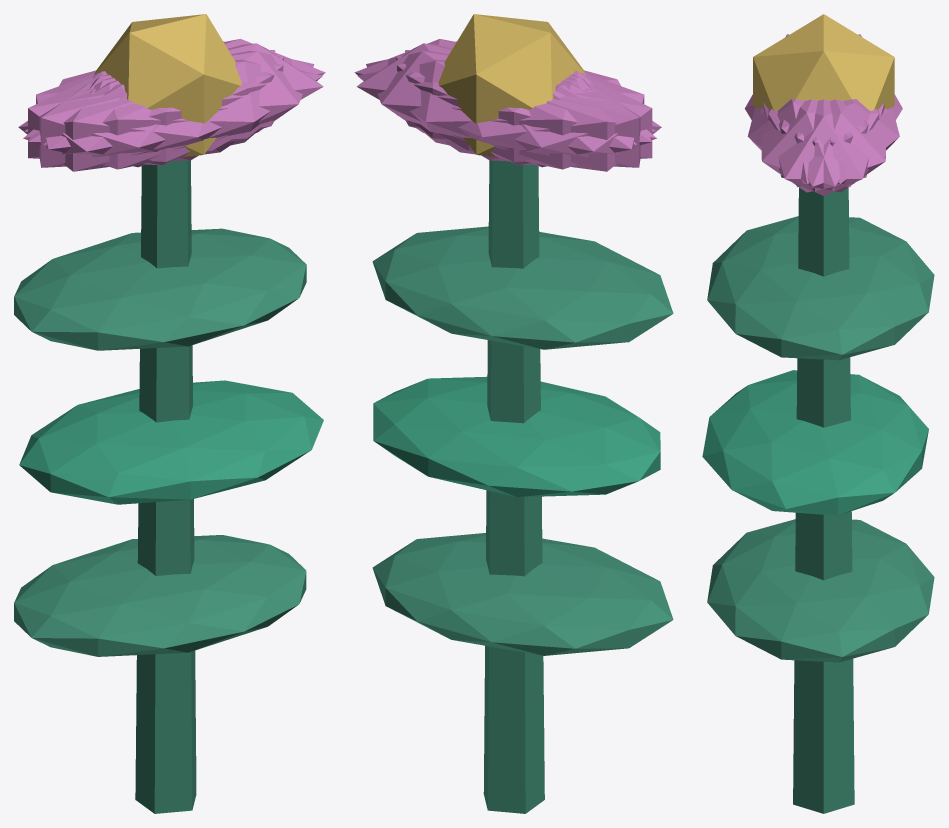
File: vicia-ramuliflora.glb
3 renders of one model, left to right at view 1: azimuth 30°, elevation 25°; view 2: azimuth 150°, elevation 25°; view 3: azimuth 270°, elevation 25°, orthographic.
Parts seen in each view (by area): view 1: leaf1, leaf2, leaf0, stem, center, petal1, petal6, petal2, petal5, petal7, petal0, petal4 (+2 smaller); view 2: leaf2, leaf0, leaf1, stem, center, petal8, petal3, petal7, petal4, petal2, petal0, petal5 (+2 smaller); view 3: leaf2, leaf1, leaf0, stem, center, petal0, petal5, petal4, petal1, petal8.
Boxes of the visible parts, x1=… form: leaf1: x1=19, y1=380, x2=323, y2=504; leaf2: x1=14, y1=228, x2=306, y2=350; leaf0: x1=14, y1=535, x2=306, y2=656; stem: x1=135, y1=160, x2=196, y2=813; center: x1=94, y1=14, x2=241, y2=157; petal1: x1=23, y1=59, x2=322, y2=169; petal6: x1=18, y1=73, x2=235, y2=171; petal2: x1=39, y1=50, x2=275, y2=167; petal5: x1=43, y1=51, x2=314, y2=161; petal7: x1=28, y1=56, x2=283, y2=165; petal0: x1=94, y1=43, x2=323, y2=151; petal4: x1=24, y1=39, x2=325, y2=142; leaf2: x1=372, y1=226, x2=673, y2=349; leaf0: x1=372, y1=533, x2=673, y2=655; leaf1: x1=373, y1=376, x2=660, y2=497; stem: x1=483, y1=160, x2=544, y2=813; center: x1=438, y1=14, x2=585, y2=157; petal8: x1=357, y1=59, x2=656, y2=169; petal3: x1=444, y1=73, x2=661, y2=171; petal7: x1=405, y1=50, x2=640, y2=167; petal4: x1=366, y1=51, x2=636, y2=161; petal2: x1=396, y1=56, x2=652, y2=165; petal0: x1=356, y1=43, x2=586, y2=151; petal5: x1=354, y1=39, x2=655, y2=142; leaf2: x1=707, y1=216, x2=934, y2=360; leaf1: x1=702, y1=370, x2=928, y2=515; leaf0: x1=707, y1=519, x2=934, y2=662; stem: x1=793, y1=187, x2=854, y2=813; center: x1=753, y1=14, x2=894, y2=110; petal0: x1=763, y1=99, x2=884, y2=195; petal5: x1=761, y1=99, x2=879, y2=192; petal4: x1=768, y1=99, x2=886, y2=192; petal1: x1=747, y1=99, x2=868, y2=183; petal8: x1=779, y1=99, x2=899, y2=183.
Size of the model in its own units: 0.1483 by 0.3661 by 0.1003.
